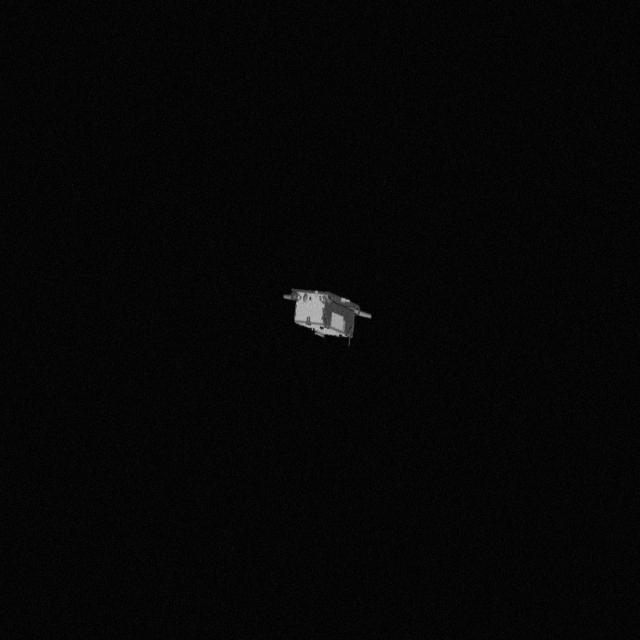satellite: (284, 284, 376, 346)
